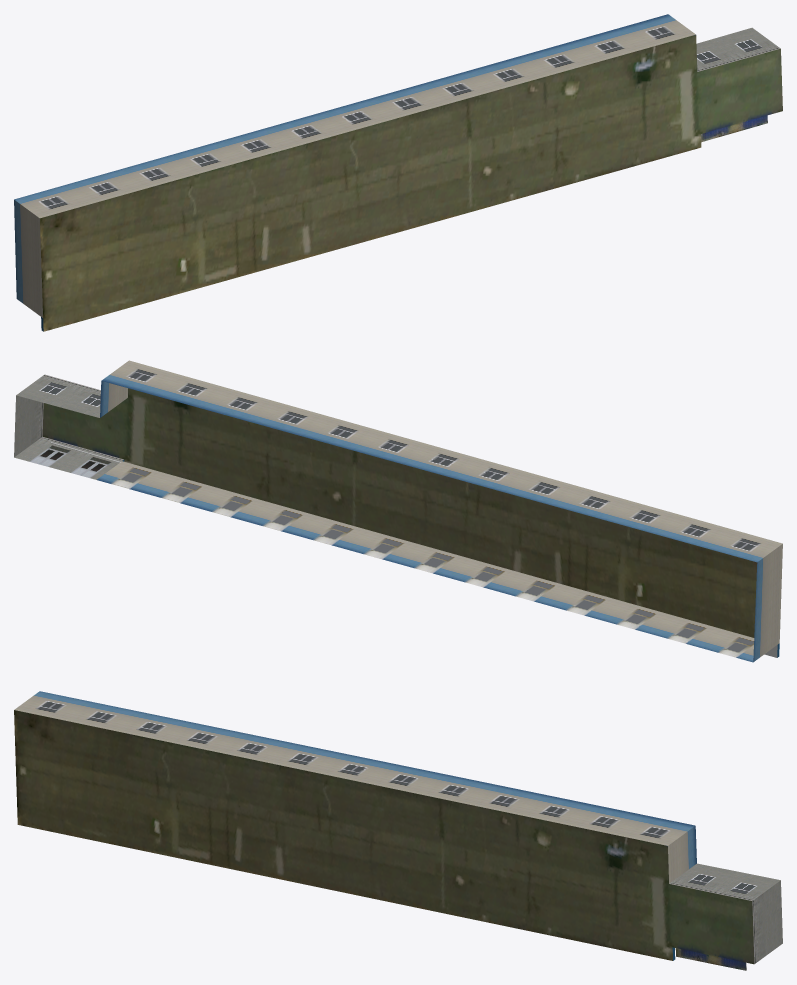
3 views of the same model, one above another, from view 1: azimuth 30°, elevation 25°; view 2: azimuth 150°, elevation 25°; view 3: azimuth 330°, elevation 25° (orthographic).
Visible parts, largest first — view 1: Group_MatrixTransform_i94b012_Geometry_9, Group_MatrixTransform_i94b012_Geometry_0, Group_MatrixTransform_i94b012_Geometry_2, Group_MatrixTransform_i94b012_Geometry_3, Group_MatrixTransform_i94b012_Geometry_8; view 2: Group_MatrixTransform_i94b012_Geometry_9, Group_MatrixTransform_i94b012_Geometry_0, Group_MatrixTransform_i94b012_Geometry_1, Group_MatrixTransform_i94b012_Geometry_2, Group_MatrixTransform_i94b012_Geometry_4, Group_MatrixTransform_i94b012_Geometry_3, Group_MatrixTransform_i94b012_Geometry_6; view 3: Group_MatrixTransform_i94b012_Geometry_9, Group_MatrixTransform_i94b012_Geometry_0, Group_MatrixTransform_i94b012_Geometry_3, Group_MatrixTransform_i94b012_Geometry_6, Group_MatrixTransform_i94b012_Geometry_2, Group_MatrixTransform_i94b012_Geometry_8.
Boxes of the visible parts, left/top/right/bottom form: Group_MatrixTransform_i94b012_Geometry_9: left=40, top=34, right=782, bottom=331; Group_MatrixTransform_i94b012_Geometry_0: left=14, top=14, right=695, bottom=218; Group_MatrixTransform_i94b012_Geometry_2: left=14, top=200, right=42, bottom=317; Group_MatrixTransform_i94b012_Geometry_3: left=696, top=27, right=780, bottom=71; Group_MatrixTransform_i94b012_Geometry_8: left=701, top=115, right=767, bottom=142; Group_MatrixTransform_i94b012_Geometry_9: left=42, top=388, right=757, bottom=637; Group_MatrixTransform_i94b012_Geometry_0: left=101, top=360, right=782, bottom=562; Group_MatrixTransform_i94b012_Geometry_1: left=97, top=461, right=754, bottom=662; Group_MatrixTransform_i94b012_Geometry_2: left=100, top=381, right=782, bottom=661; Group_MatrixTransform_i94b012_Geometry_4: left=14, top=436, right=123, bottom=479; Group_MatrixTransform_i94b012_Geometry_3: left=16, top=374, right=100, bottom=417; Group_MatrixTransform_i94b012_Geometry_6: left=14, top=395, right=43, bottom=457; Group_MatrixTransform_i94b012_Geometry_9: left=14, top=710, right=754, bottom=964; Group_MatrixTransform_i94b012_Geometry_0: left=14, top=691, right=694, bottom=845; Group_MatrixTransform_i94b012_Geometry_3: left=669, top=863, right=780, bottom=900; Group_MatrixTransform_i94b012_Geometry_6: left=752, top=880, right=782, bottom=963; Group_MatrixTransform_i94b012_Geometry_2: left=668, top=826, right=696, bottom=883; Group_MatrixTransform_i94b012_Geometry_8: left=675, top=948, right=746, bottom=970.
Size of the model in its own units: 60.48 by 10.73 by 4.05.
10 materials, 10 textured.
